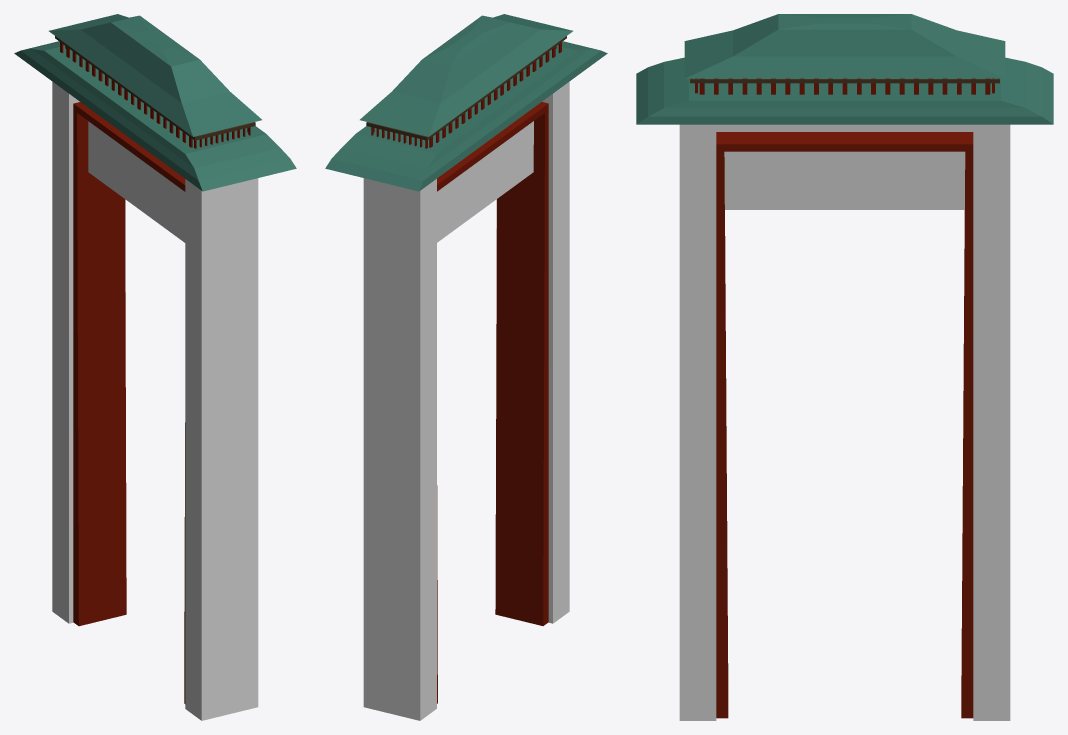
File: archway_.fbx
3 views of the same model, side by side, from view 1: azimuth 30°, elevation 25°; view 2: azimuth 150°, elevation 25°; view 3: azimuth 270°, elevation 25° (orthographic). The views are drawn at different scales.
Visible parts, largest first — view 1: 立方体.035, 立方体.040, 立方体.037, 立方体.036, 立方体.043, 立方体.038, 立方体.039; view 2: 立方体.035, 立方体.040, 立方体.037, 立方体.036, 立方体.043, 立方体.038, 立方体.039; view 3: 立方体.035, 立方体.036, 立方体.037, 立方体.040, 立方体.043, 立方体.038, 立方体.039.
Boxes of the visible parts, x1,y1,x2,y2 form: 立方体.035: (52, 81, 258, 720); 立方体.040: (73, 102, 185, 703); 立方体.037: (49, 14, 261, 136); 立方体.036: (14, 41, 296, 191); 立方体.043: (88, 121, 185, 242); 立方体.038: (60, 42, 250, 148); 立方体.039: (55, 36, 255, 140); 立方体.035: (363, 81, 569, 720); 立方体.040: (437, 102, 548, 703); 立方体.037: (360, 14, 572, 136); 立方体.036: (325, 41, 607, 191); 立方体.043: (437, 121, 533, 242); 立方体.038: (371, 42, 561, 148); 立方体.039: (366, 36, 566, 140); 立方体.035: (679, 124, 1010, 720); 立方体.036: (636, 57, 1053, 124); 立方体.037: (684, 14, 1005, 78); 立方体.040: (716, 132, 973, 718); 立方体.043: (724, 151, 965, 209); 立方体.038: (695, 78, 994, 94); 立方体.039: (690, 78, 999, 83).
Size of the model in its own units: 35.79 by 225 by 124.
